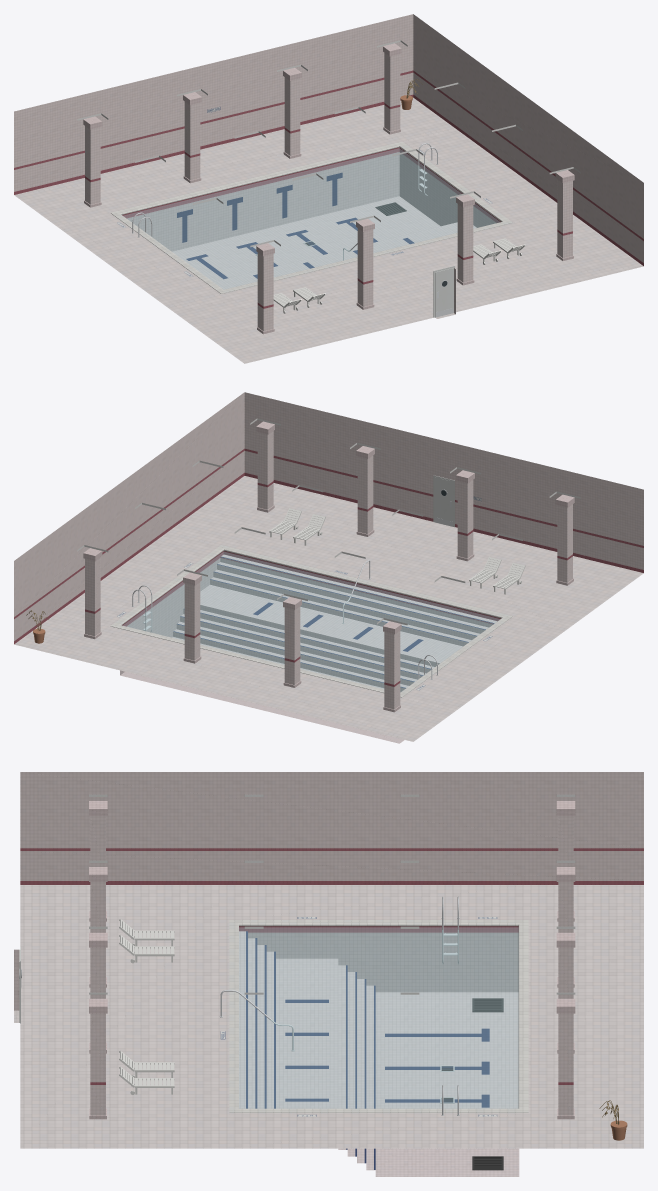
The model's file is sub_pool_04.glb.
3 views of the same model, one above another, from view 1: azimuth 30°, elevation 25°; view 2: azimuth 150°, elevation 25°; view 3: azimuth 270°, elevation 25° (orthographic). The views are drawn at different scales.
Parts seen in each view (by area): view 1: Tile_Wall, Tile_Deck, Pool_Water, Tile_Pool, Tile_Accent, Tile_Lip, Tile_Trim, Tile_Lane, Ceiling_Paint, Plastic_White, DoorLeaf_atrium, Chrome; view 2: Tile_Wall, Tile_Deck, Tile_Pool, Pool_Water, Tile_Accent, Tile_Lip, Tile_Lane, Tile_Trim, Plastic_White, Ceiling_Paint, DoorLeaf_atrium, Chrome; view 3: Tile_Deck, Tile_Wall, Pool_Water, Tile_Pool, Tile_Lip, Tile_Accent, Tile_Lane, Tile_Trim, Plastic_White, Grate_Iron, Chrome, Ceiling_Paint.
Part boxes in pixels (left/top/right/bottom): Tile_Wall: left=14, top=14, right=643, bottom=331; Tile_Deck: left=14, top=97, right=643, bottom=363; Pool_Water: left=124, top=148, right=499, bottom=289; Tile_Pool: left=127, top=152, right=496, bottom=289; Tile_Accent: left=14, top=70, right=643, bottom=308; Tile_Lip: left=111, top=141, right=512, bottom=293; Tile_Trim: left=83, top=43, right=574, bottom=334; Tile_Lane: left=177, top=172, right=414, bottom=279; Ceiling_Paint: left=77, top=40, right=580, bottom=247; Plastic_White: left=273, top=238, right=525, bottom=313; DoorLeaf_atrium: left=435, top=268, right=453, bottom=317; Chrome: left=132, top=143, right=438, bottom=260; Tile_Wall: left=14, top=392, right=643, bottom=709; Tile_Deck: left=14, top=476, right=643, bottom=741; Tile_Pool: left=120, top=554, right=496, bottom=743; Pool_Water: left=123, top=552, right=499, bottom=691; Tile_Accent: left=14, top=448, right=643, bottom=686; Tile_Lip: left=110, top=545, right=512, bottom=697; Tile_Lane: left=173, top=556, right=494, bottom=688; Tile_Trim: left=83, top=421, right=574, bottom=712; Plastic_White: left=269, top=508, right=525, bottom=594; Ceiling_Paint: left=77, top=418, right=580, bottom=625; DoorLeaf_atrium: left=434, top=477, right=453, bottom=526; Chrome: left=132, top=560, right=438, bottom=679; Tile_Deck: left=14, top=885, right=643, bottom=1148; Tile_Wall: left=14, top=772, right=643, bottom=1115; Pool_Water: left=239, top=927, right=518, bottom=1108; Tile_Pool: left=239, top=931, right=519, bottom=1176; Tile_Lip: left=229, top=920, right=528, bottom=1112; Tile_Accent: left=20, top=848, right=643, bottom=1084; Tile_Lane: left=246, top=931, right=489, bottom=1169; Tile_Trim: left=89, top=801, right=575, bottom=1119; Plastic_White: left=119, top=919, right=174, bottom=1094; Grate_Iron: left=441, top=998, right=503, bottom=1170; Chrome: left=219, top=896, right=459, bottom=1115; Ceiling_Paint: left=89, top=794, right=575, bottom=994.
Size of the model in its own units: 20 by 6.48 by 20.2.
18 materials, 10 textured.
